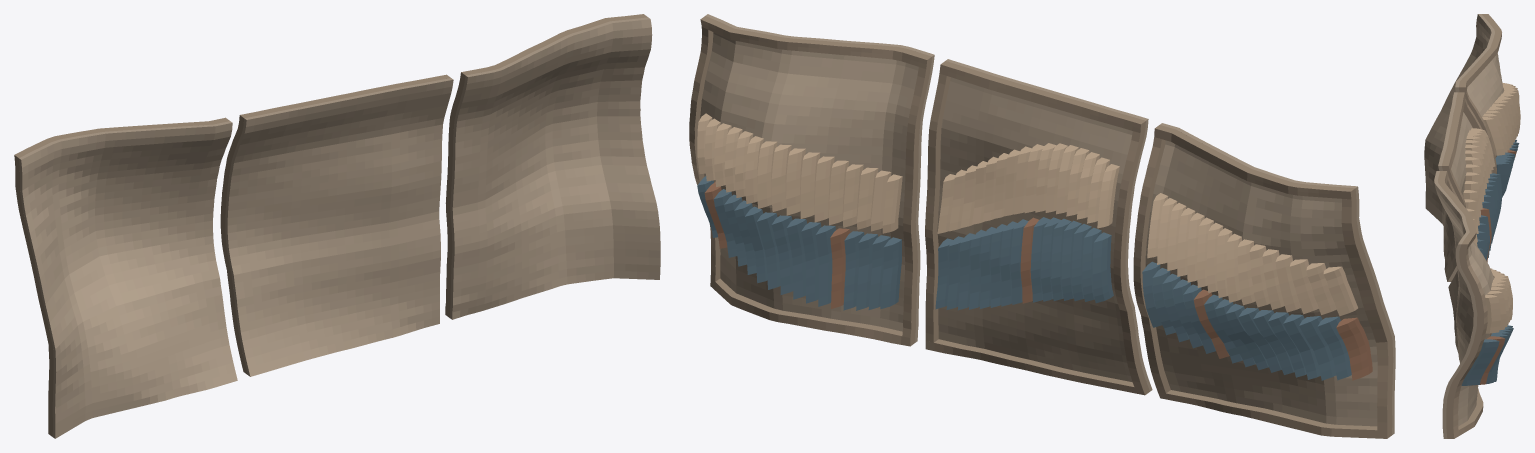
File: detail-pool-relief.glb
3 renders of one model, left to right at view 1: azimuth 30°, elevation 25°; view 2: azimuth 150°, elevation 25°; view 3: azimuth 270°, elevation 25°, orthographic. The views are drawn at different scales.
Visible parts, largest first — view 1: core_pool_tide_relief_saddle_bed, core_pool_tide_relief_saddle_frame; view 2: core_pool_tide_relief_saddle_bed, core_pool_tide_relief_saddle_slate, core_pool_tide_relief_saddle_pale, core_pool_tide_relief_saddle_frame, core_pool_tide_relief_saddle_oxide; view 3: core_pool_tide_relief_saddle_bed, core_pool_tide_relief_saddle_frame, core_pool_tide_relief_saddle_pale, core_pool_tide_relief_saddle_slate, core_pool_tide_relief_saddle_oxide.
Part boxes in pixels (x1,y1,x2,y2): core_pool_tide_relief_saddle_bed: (19,17,660,438); core_pool_tide_relief_saddle_frame: (14,14,647,436); core_pool_tide_relief_saddle_bed: (700,14,1395,434); core_pool_tide_relief_saddle_slate: (697,176,1351,380); core_pool_tide_relief_saddle_pale: (697,113,1357,316); core_pool_tide_relief_saddle_frame: (689,16,1393,438); core_pool_tide_relief_saddle_oxide: (704,182,1372,380); core_pool_tide_relief_saddle_bed: (1424,14,1503,438); core_pool_tide_relief_saddle_frame: (1438,14,1501,438); core_pool_tide_relief_saddle_pale: (1463,82,1520,333); core_pool_tide_relief_saddle_slate: (1461,140,1519,385); core_pool_tide_relief_saddle_oxide: (1472,150,1516,385).
Size of the model in its own units: 3.44 by 1.35 by 0.6073.
